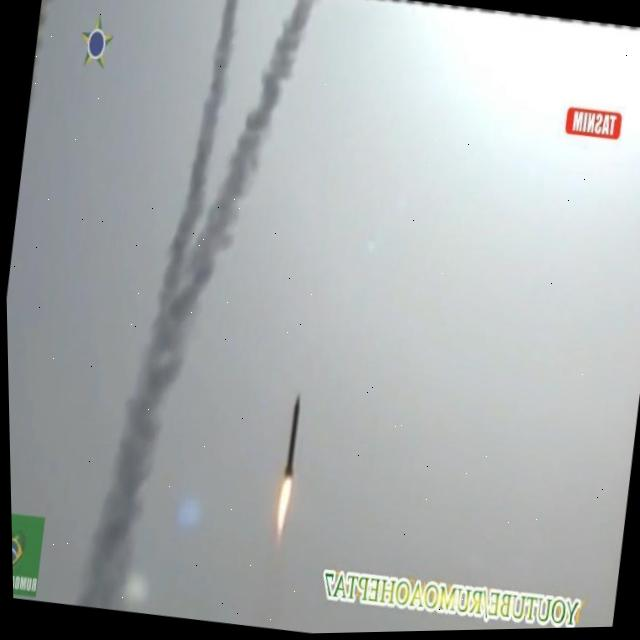missile: (277, 393, 306, 487)
